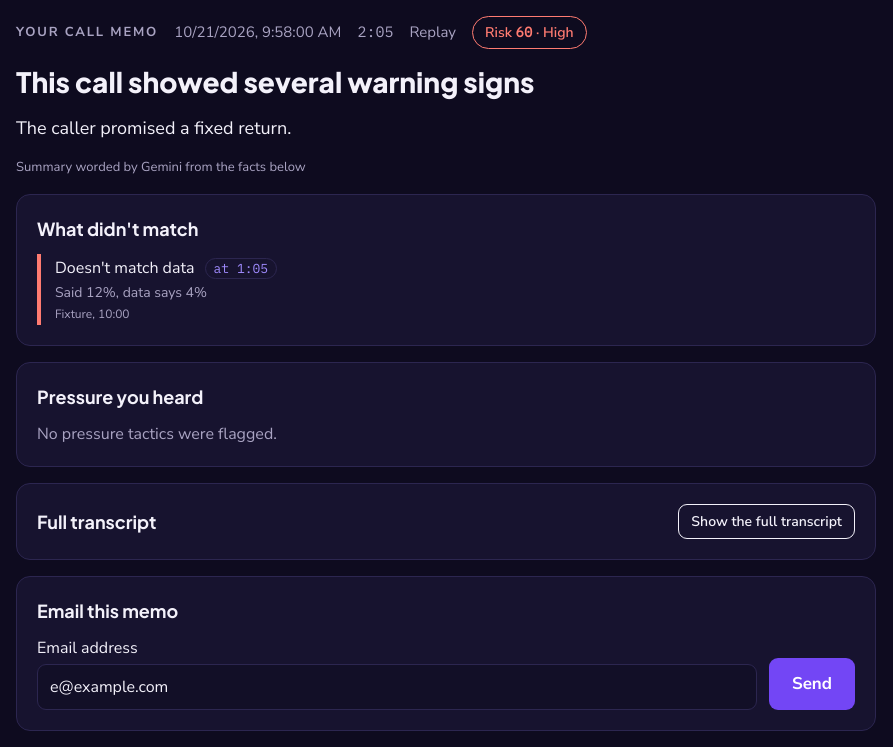
Test: MemoScreen › prefills email and reports success and failure
This screenshot has width=893, height=747.
Expected: the field labelled "Email address" holds "e@example.com", [37,664,757,710]
Click the button "Send" at (812, 684), box [769,658,855,710]
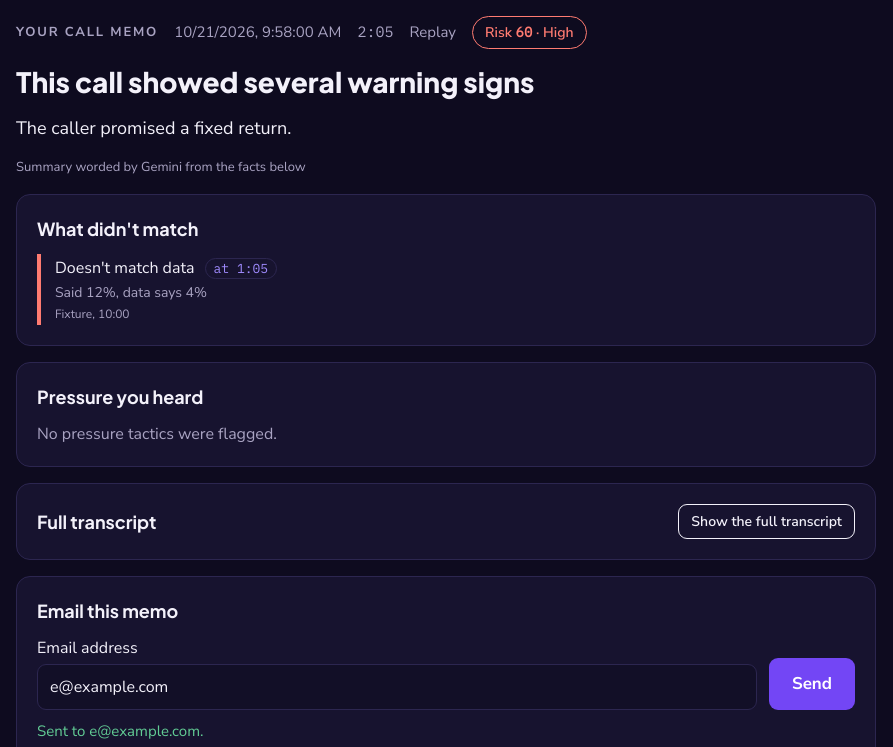
Expected: the text "Sent to e@example.com." is shown, [37,721,204,741]
Click the button "Send" at (812, 684), box [769,658,855,710]
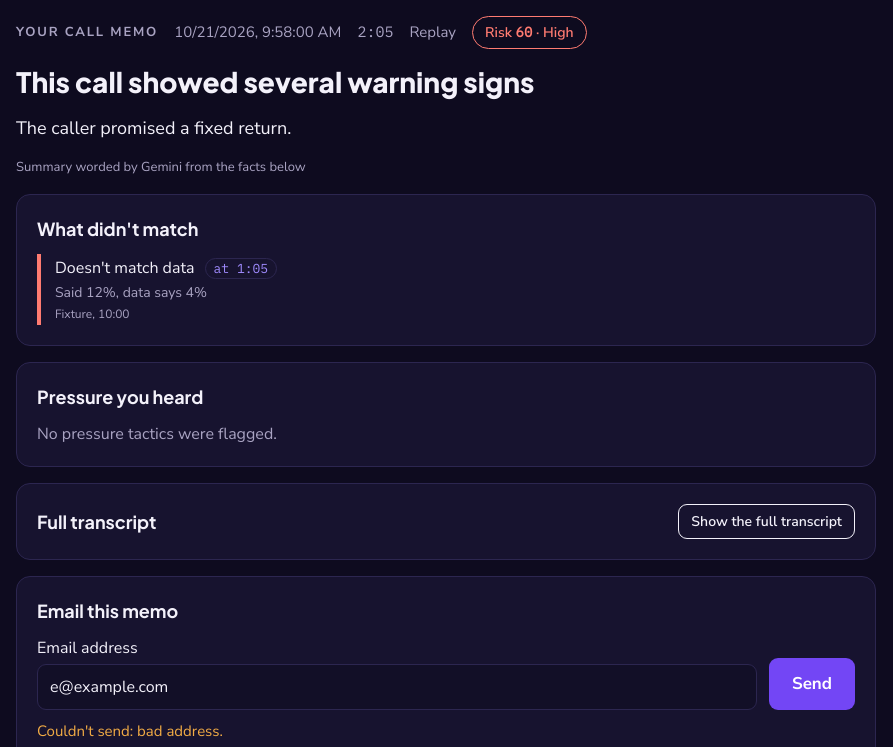
Expected: the text "Couldn't send: bad address." is shown, [37,721,223,741]
